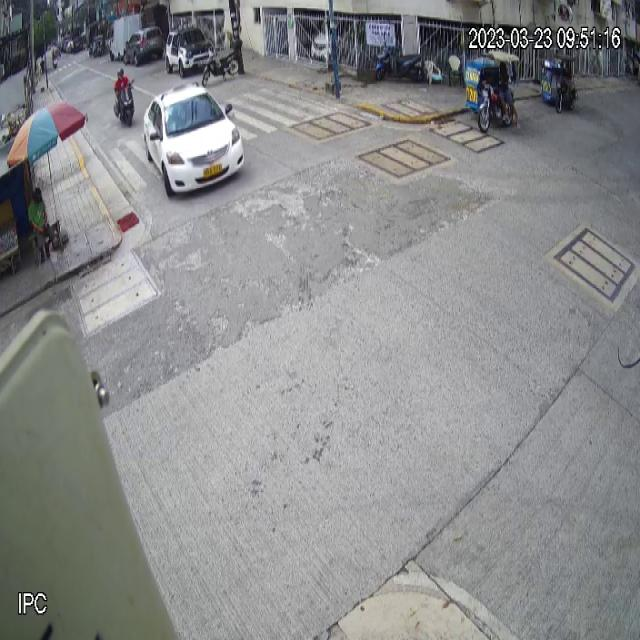Car: (142, 80, 245, 200)
Motorcycle: (375, 39, 425, 83), (202, 46, 241, 87), (113, 85, 135, 126)
Tricycle: (464, 50, 520, 134)
